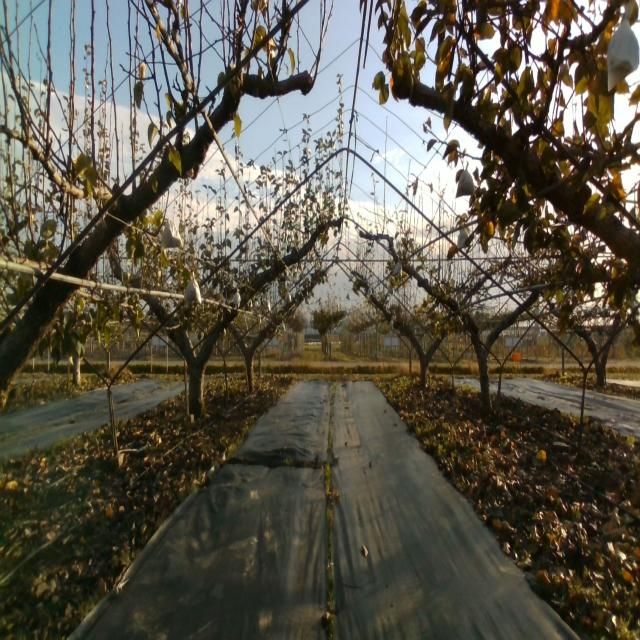pearbags: (607, 4, 639, 95), (455, 161, 476, 197), (162, 216, 182, 251), (183, 269, 202, 305), (457, 230, 469, 249)
